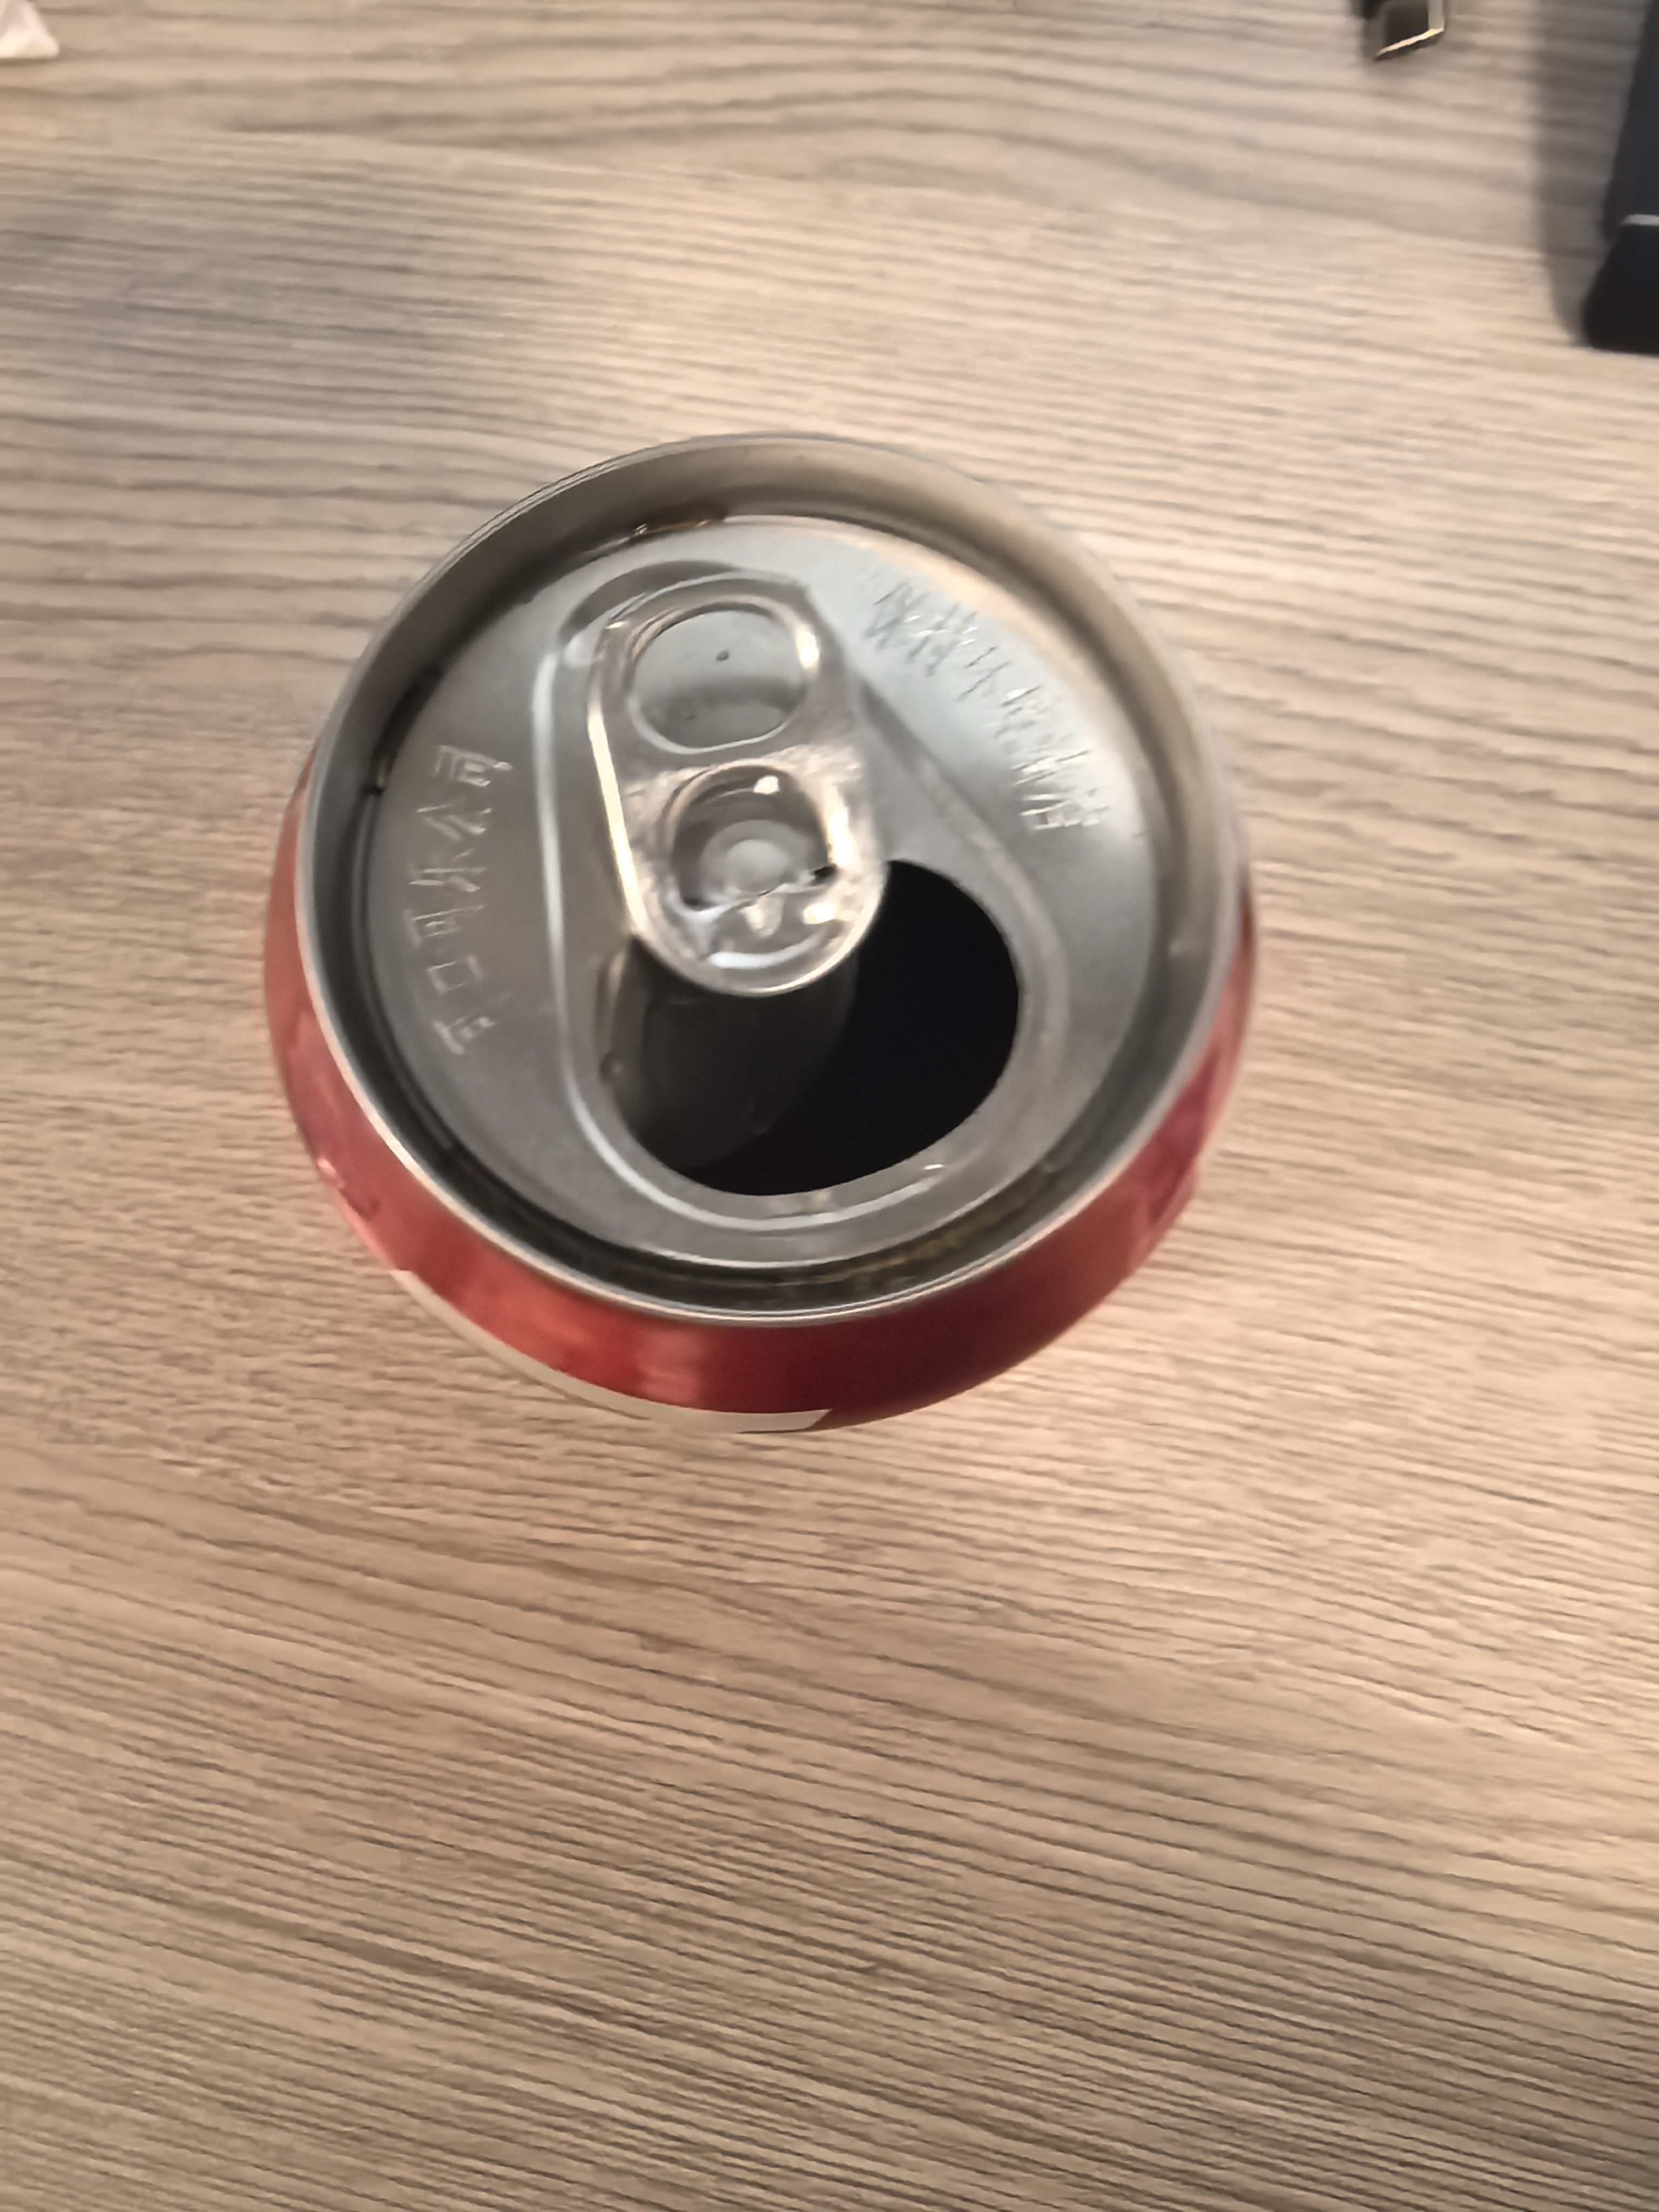可乐: (232, 430, 1349, 1477)
